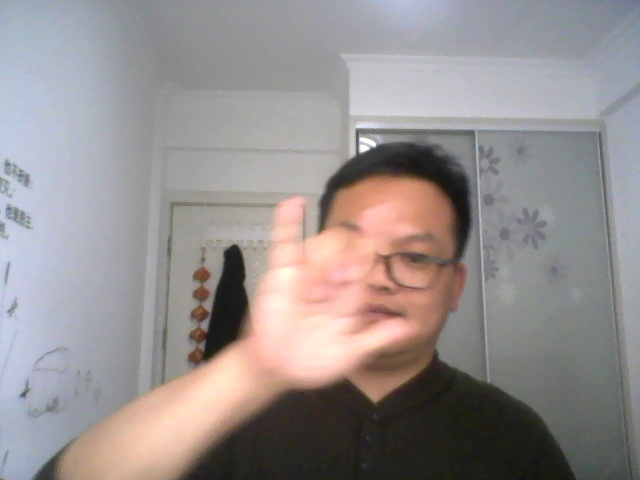I Love You: (243, 189, 421, 406)
